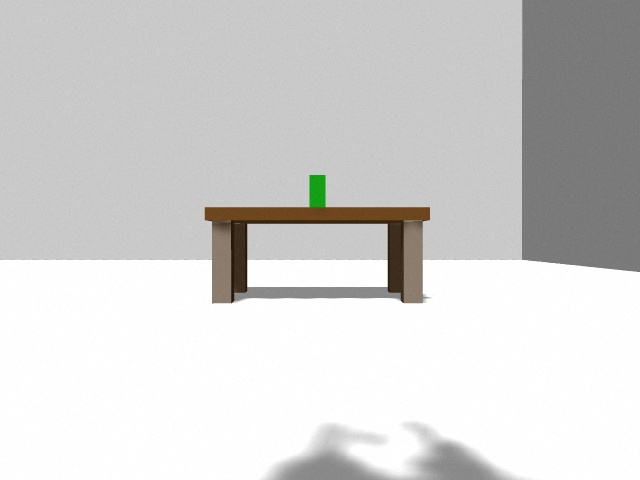green_cube: (309, 175, 326, 207)
